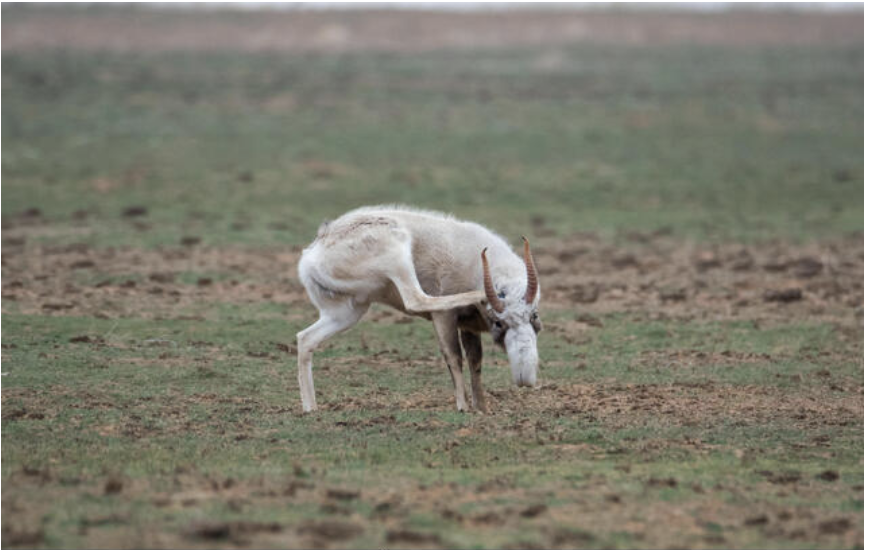saiga: (264, 182, 544, 415)
